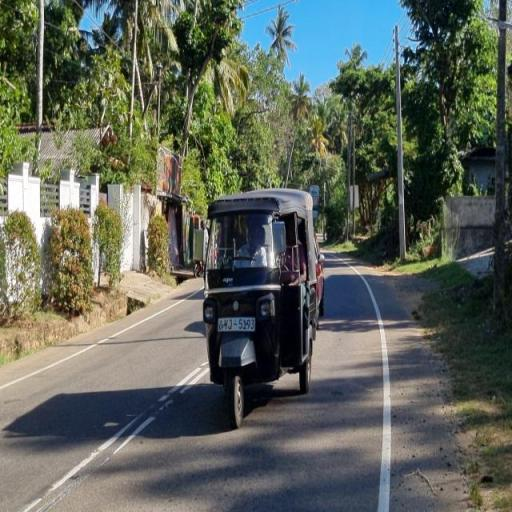double_white_line: (18, 358, 206, 511)
